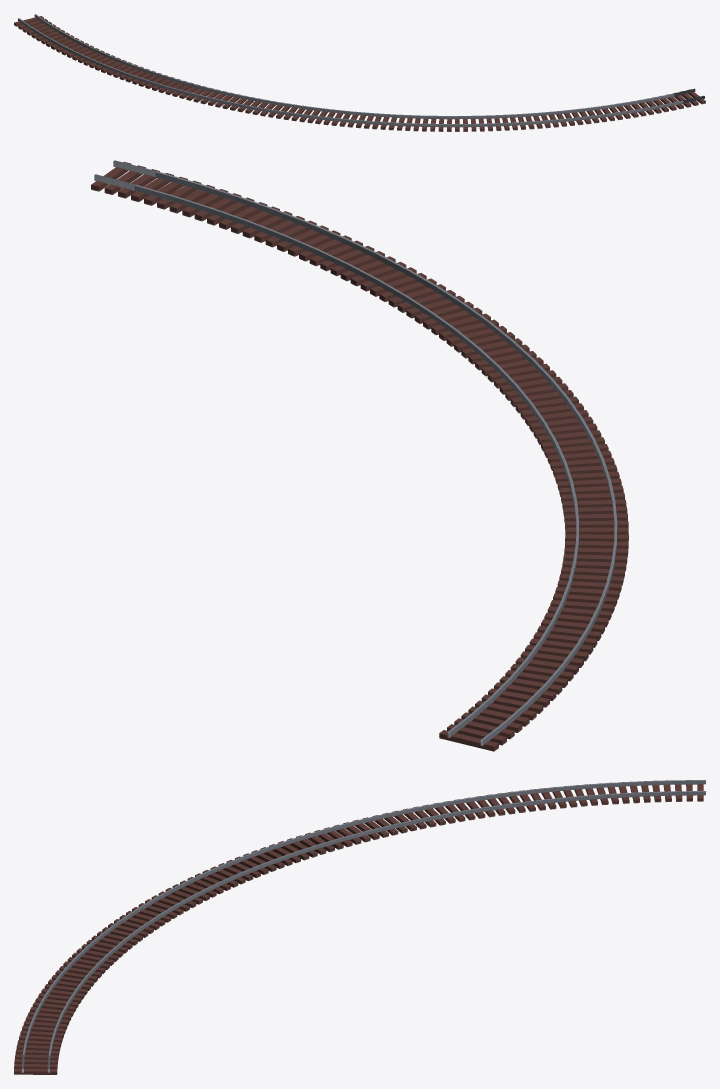
The model's file is curve-16-track.blend.glb.
3 renders of one model, top to bottom at view 1: azimuth 30°, elevation 25°; view 2: azimuth 150°, elevation 25°; view 3: azimuth 270°, elevation 25°, orthographic. The views are drawn at different scales.
Visible parts, largest first — view 1: curve-16; view 2: curve-16; view 3: curve-16.
Part boxes in pixels (bbox=[...]): curve-16: bbox=[14, 14, 705, 131]; curve-16: bbox=[91, 160, 628, 751]; curve-16: bbox=[14, 780, 705, 1074].
Bounding box in the file's own units: 32 × 0.3391 × 32.
1 material, 1 textured.
